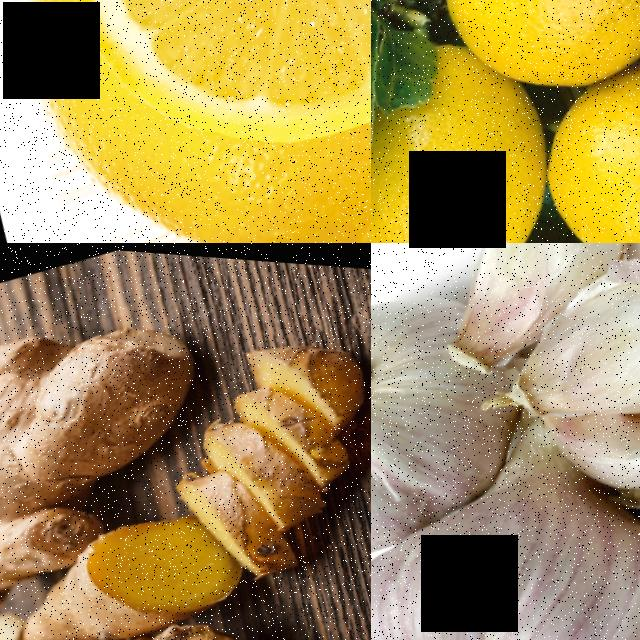garlic: (371, 263, 524, 612), (371, 466, 640, 640), (500, 264, 640, 440), (409, 243, 640, 344)
ginger: (0, 269, 255, 619), (0, 490, 251, 640), (0, 562, 371, 640)
lemon: (0, 0, 371, 215), (371, 69, 592, 243), (398, 0, 640, 115), (514, 29, 640, 243)
